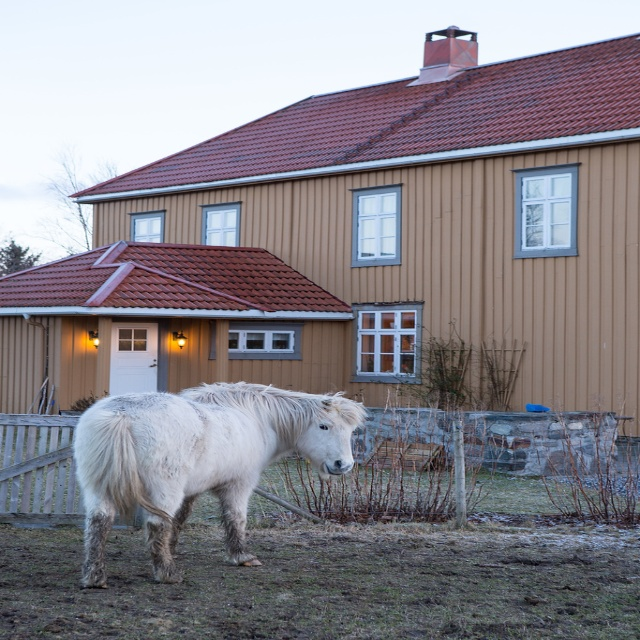Horse: (71, 379, 375, 592)
